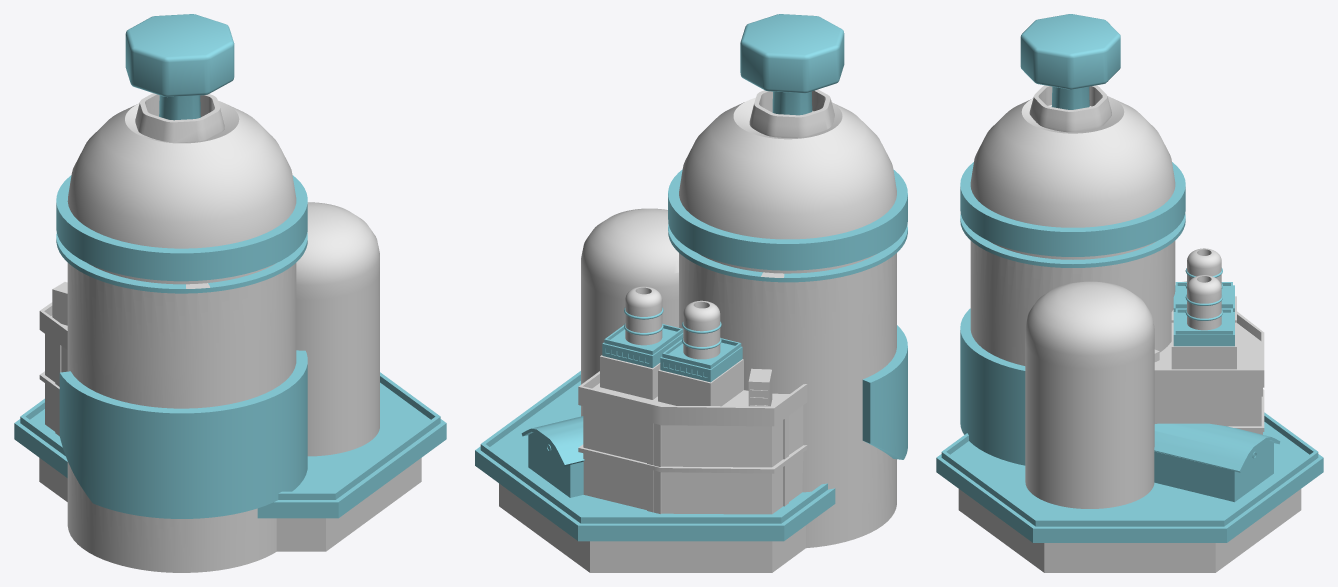
The model's file is Plant.fbx.
The picture shows the model from 3 angles, left to right: view 1: azimuth 30°, elevation 25°; view 2: azimuth 150°, elevation 25°; view 3: azimuth 270°, elevation 25°; orthographic projection. The views are drawn at different scales.
Visible parts, largest first — view 1: Cylinder.015, Cylinder.032, Cylinder.018, Cylinder.008, Cylinder.022, Cube.020, Cube.016; view 2: Cylinder.015, Cube.020, Cylinder.032, Cube.013, Cylinder.008, Cylinder.018, Cube.019, Cylinder.022, Cube.016; view 3: Cylinder.015, Cylinder.032, Cylinder.022, Cylinder.018, Cube.020, Cube.019, Cylinder.008, Cube.013.
Part boxes in pixels (x1=…): Cylinder.015: x1=56, y1=93, x2=307, y2=572; Cylinder.032: x1=14, y1=372, x2=446, y2=551; Cylinder.018: x1=296, y1=202, x2=379, y2=456; Cylinder.008: x1=125, y1=14, x2=234, y2=120; Cylinder.022: x1=296, y1=243, x2=379, y2=450; Cube.020: x1=39, y1=302, x2=67, y2=435; Cube.016: x1=52, y1=282, x2=67, y2=325; Cylinder.015: x1=668, y1=89, x2=907, y2=548; Cube.020: x1=578, y1=371, x2=807, y2=514; Cylinder.032: x1=475, y1=371, x2=835, y2=572; Cube.013: x1=600, y1=286, x2=743, y2=406; Cylinder.008: x1=740, y1=14, x2=844, y2=115; Cylinder.018: x1=581, y1=208, x2=678, y2=327; Cube.019: x1=521, y1=416, x2=584, y2=497; Cylinder.022: x1=581, y1=273, x2=678, y2=416; Cube.016: x1=748, y1=368, x2=772, y2=406; Cylinder.015: x1=960, y1=85, x2=1185, y2=465; Cylinder.032: x1=936, y1=412, x2=1323, y2=572; Cylinder.022: x1=1025, y1=303, x2=1154, y2=508; Cylinder.018: x1=1025, y1=281, x2=1154, y2=482; Cube.020: x1=1154, y1=311, x2=1264, y2=434; Cube.019: x1=1154, y1=423, x2=1280, y2=502; Cylinder.008: x1=1020, y1=14, x2=1120, y2=109; Cube.013: x1=1171, y1=248, x2=1236, y2=369.
Bounding box in the file's own units: 11.26 × 15.04 × 12.
